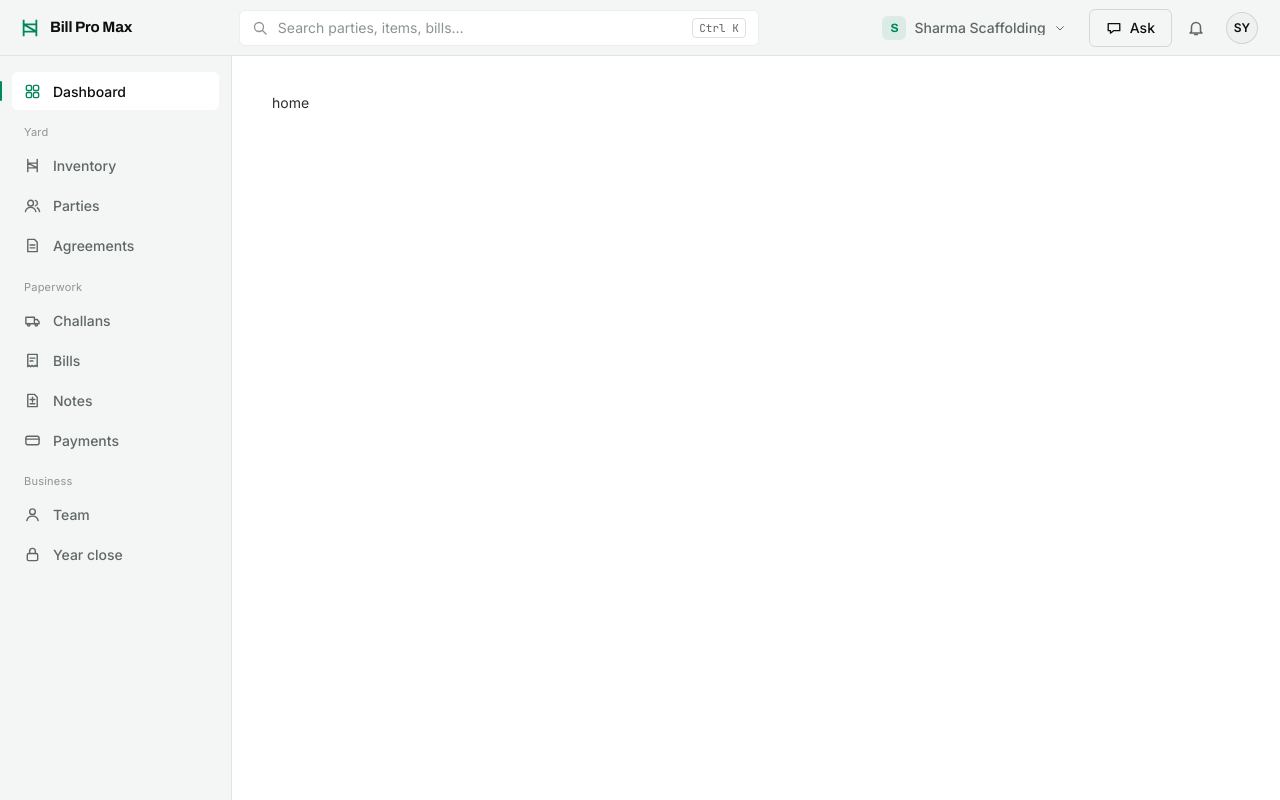
Layout › opens the business menu with Settings and other businesses
Step 1. Click the button "S Sharma Scaffolding" → click(974, 28), box 866,8 -> 1083,46
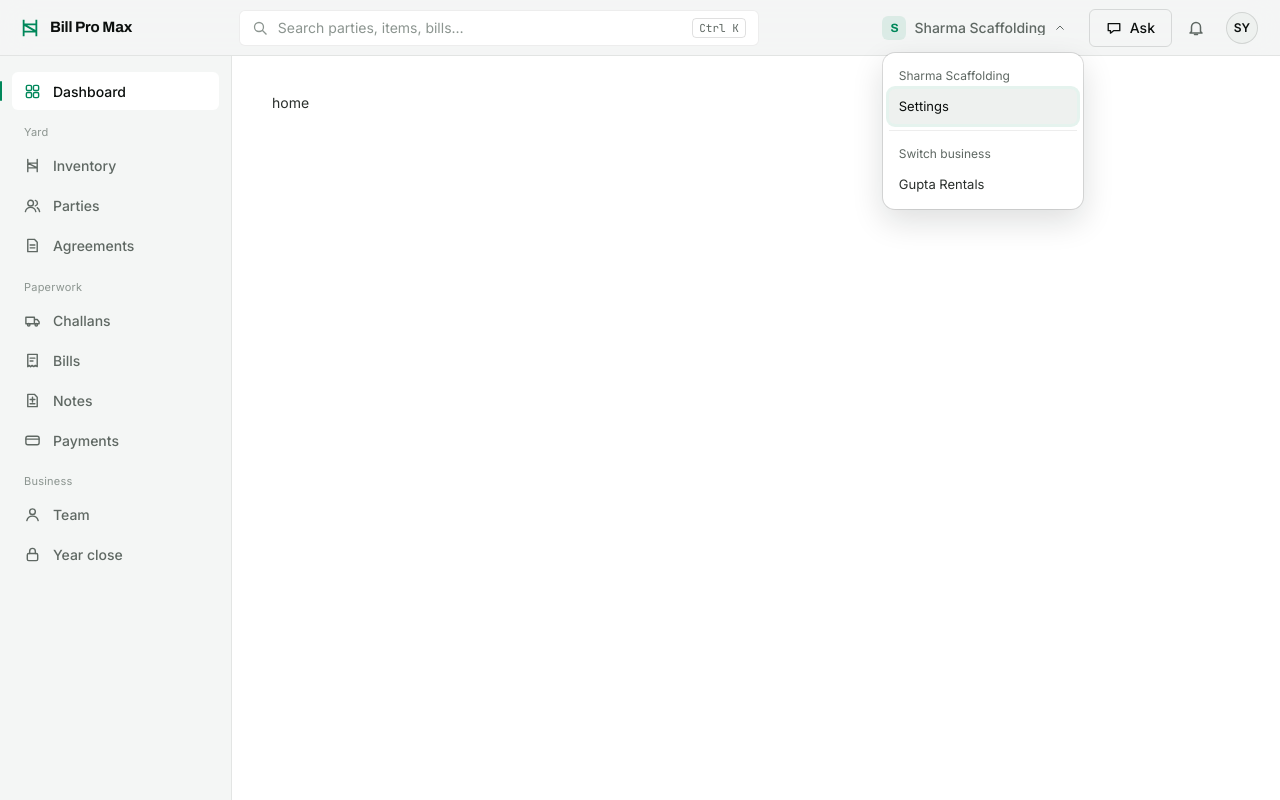
Check: the text "Switch business" is shown, box 899,146 -> 991,161
Step 2. Click the menu item "Gupta Rentals" → click(983, 185), box 889,167 -> 1077,202
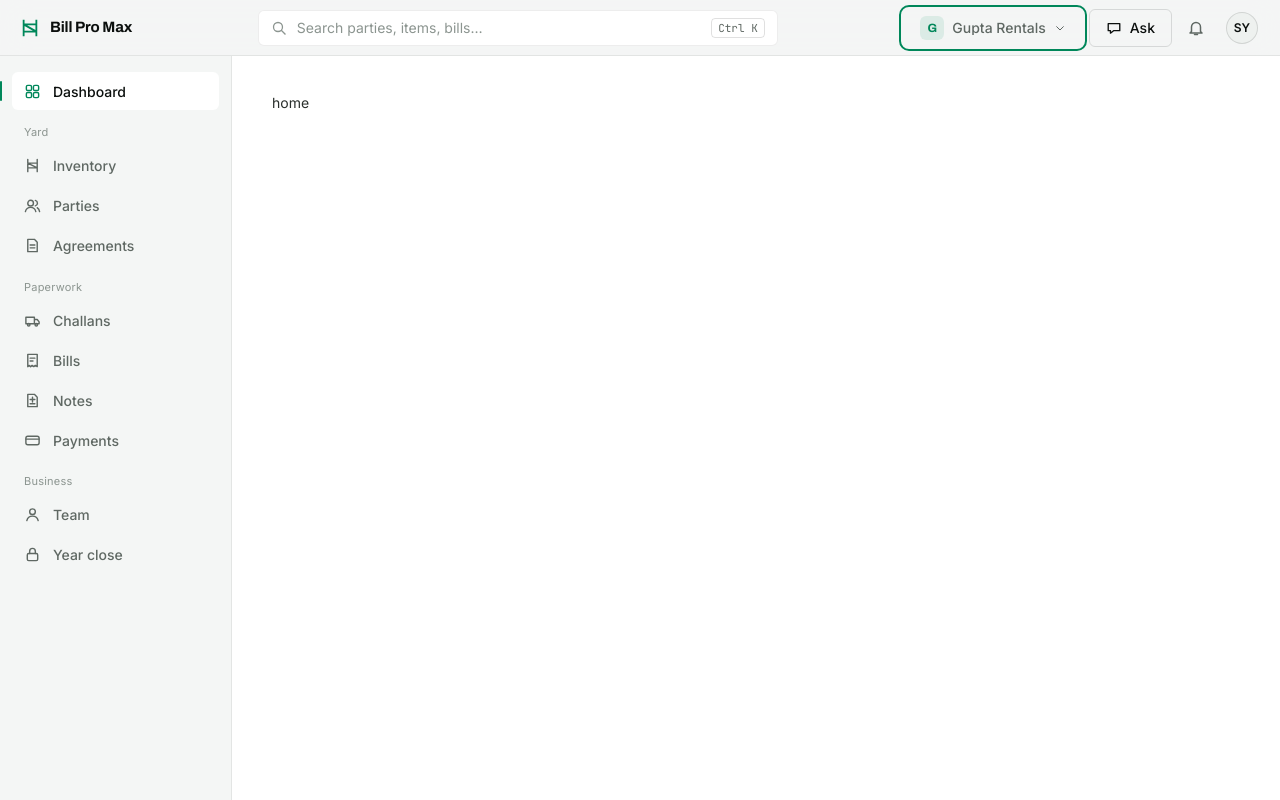
Check: the menu is gone
